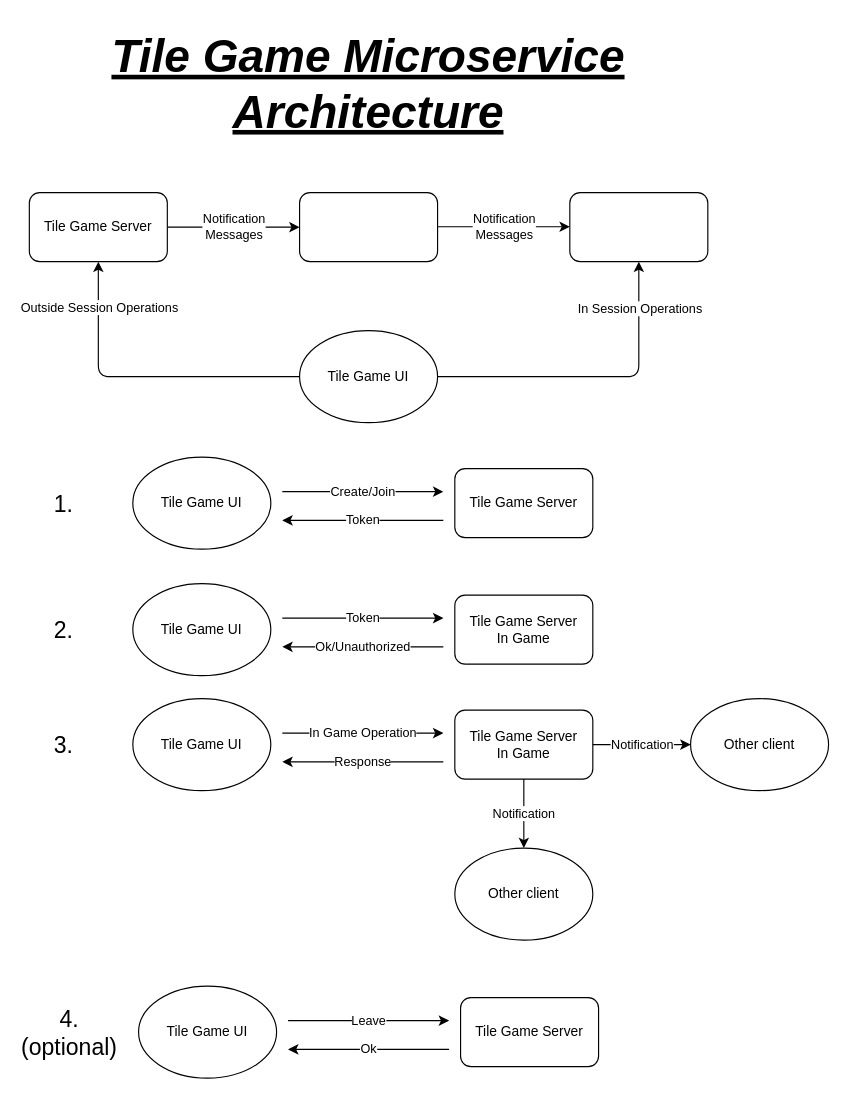
This 849x1098 diagram has some shape labels left out. Here are the shapes that lost their labels. From the top down, the centre of each, then its label:
(368,226): RabbitMQ
(638,226): Tile Game Server In Session
